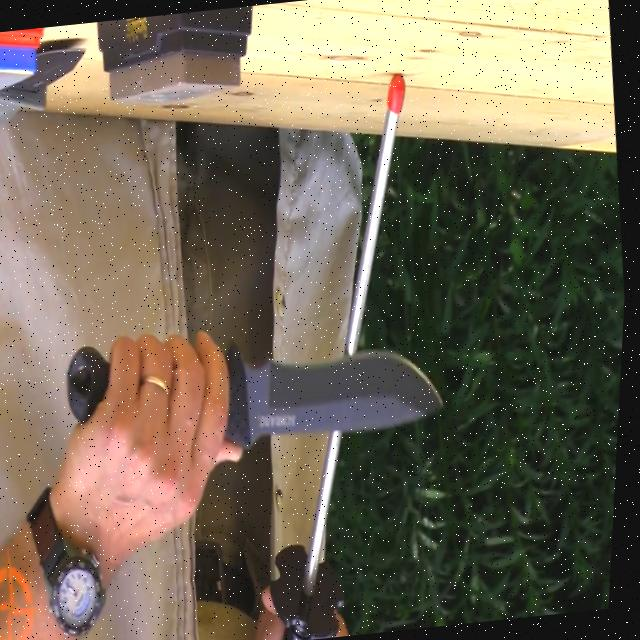knife: (63, 306, 455, 461), (0, 42, 95, 140)
